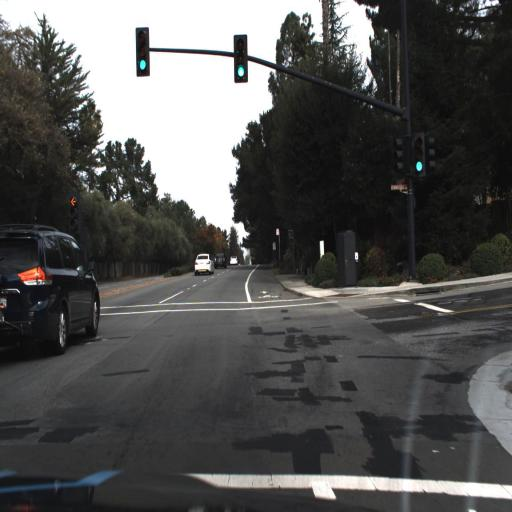car: (0, 223, 106, 352), (193, 250, 213, 278), (214, 254, 228, 270), (229, 255, 238, 267)
